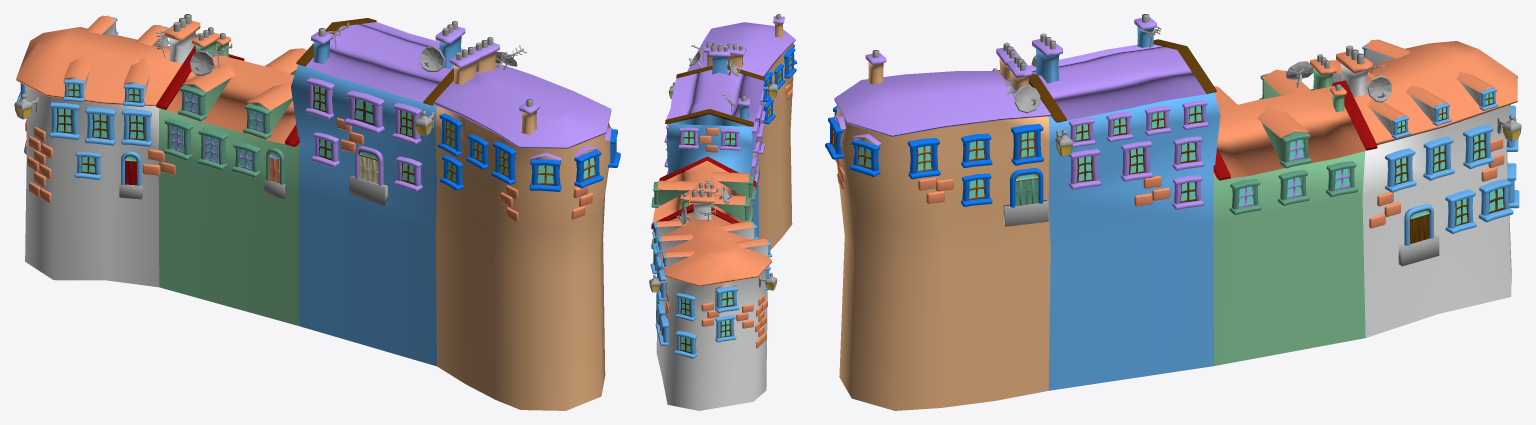
The model's file is building_alena_2.fbx.
3 renders of one model, left to right at view 1: azimuth 30°, elevation 25°; view 2: azimuth 150°, elevation 25°; view 3: azimuth 270°, elevation 25°, orthographic. The views are drawn at different scales.
Parts seen in each view (by area): view 1: building_alena_2; view 2: building_alena_2; view 3: building_alena_2.
Part boxes in pixels (<box>): building_alena_2: <box>14,14,620,410</box>; building_alena_2: <box>649,14,796,410</box>; building_alena_2: <box>825,14,1521,410</box>.
Size of the model in its own units: 29.79 by 26.26 by 49.63.
